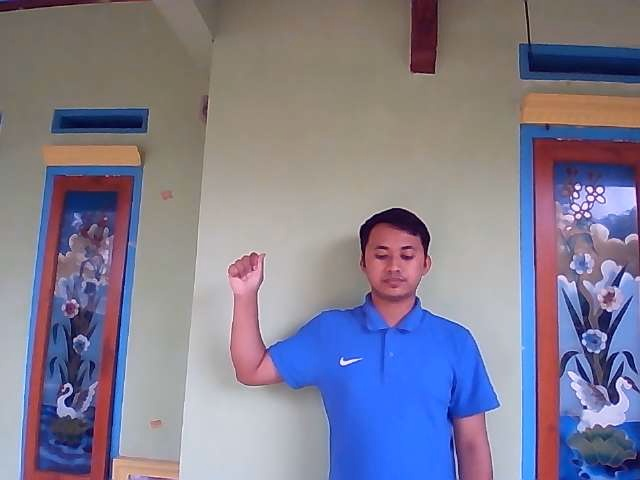A: (226, 251, 266, 294)
